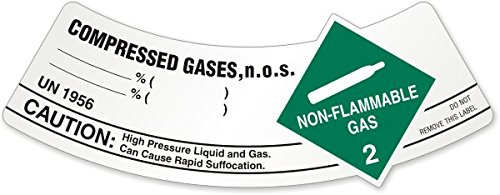NonFlammableGas: (275, 21, 436, 180)
